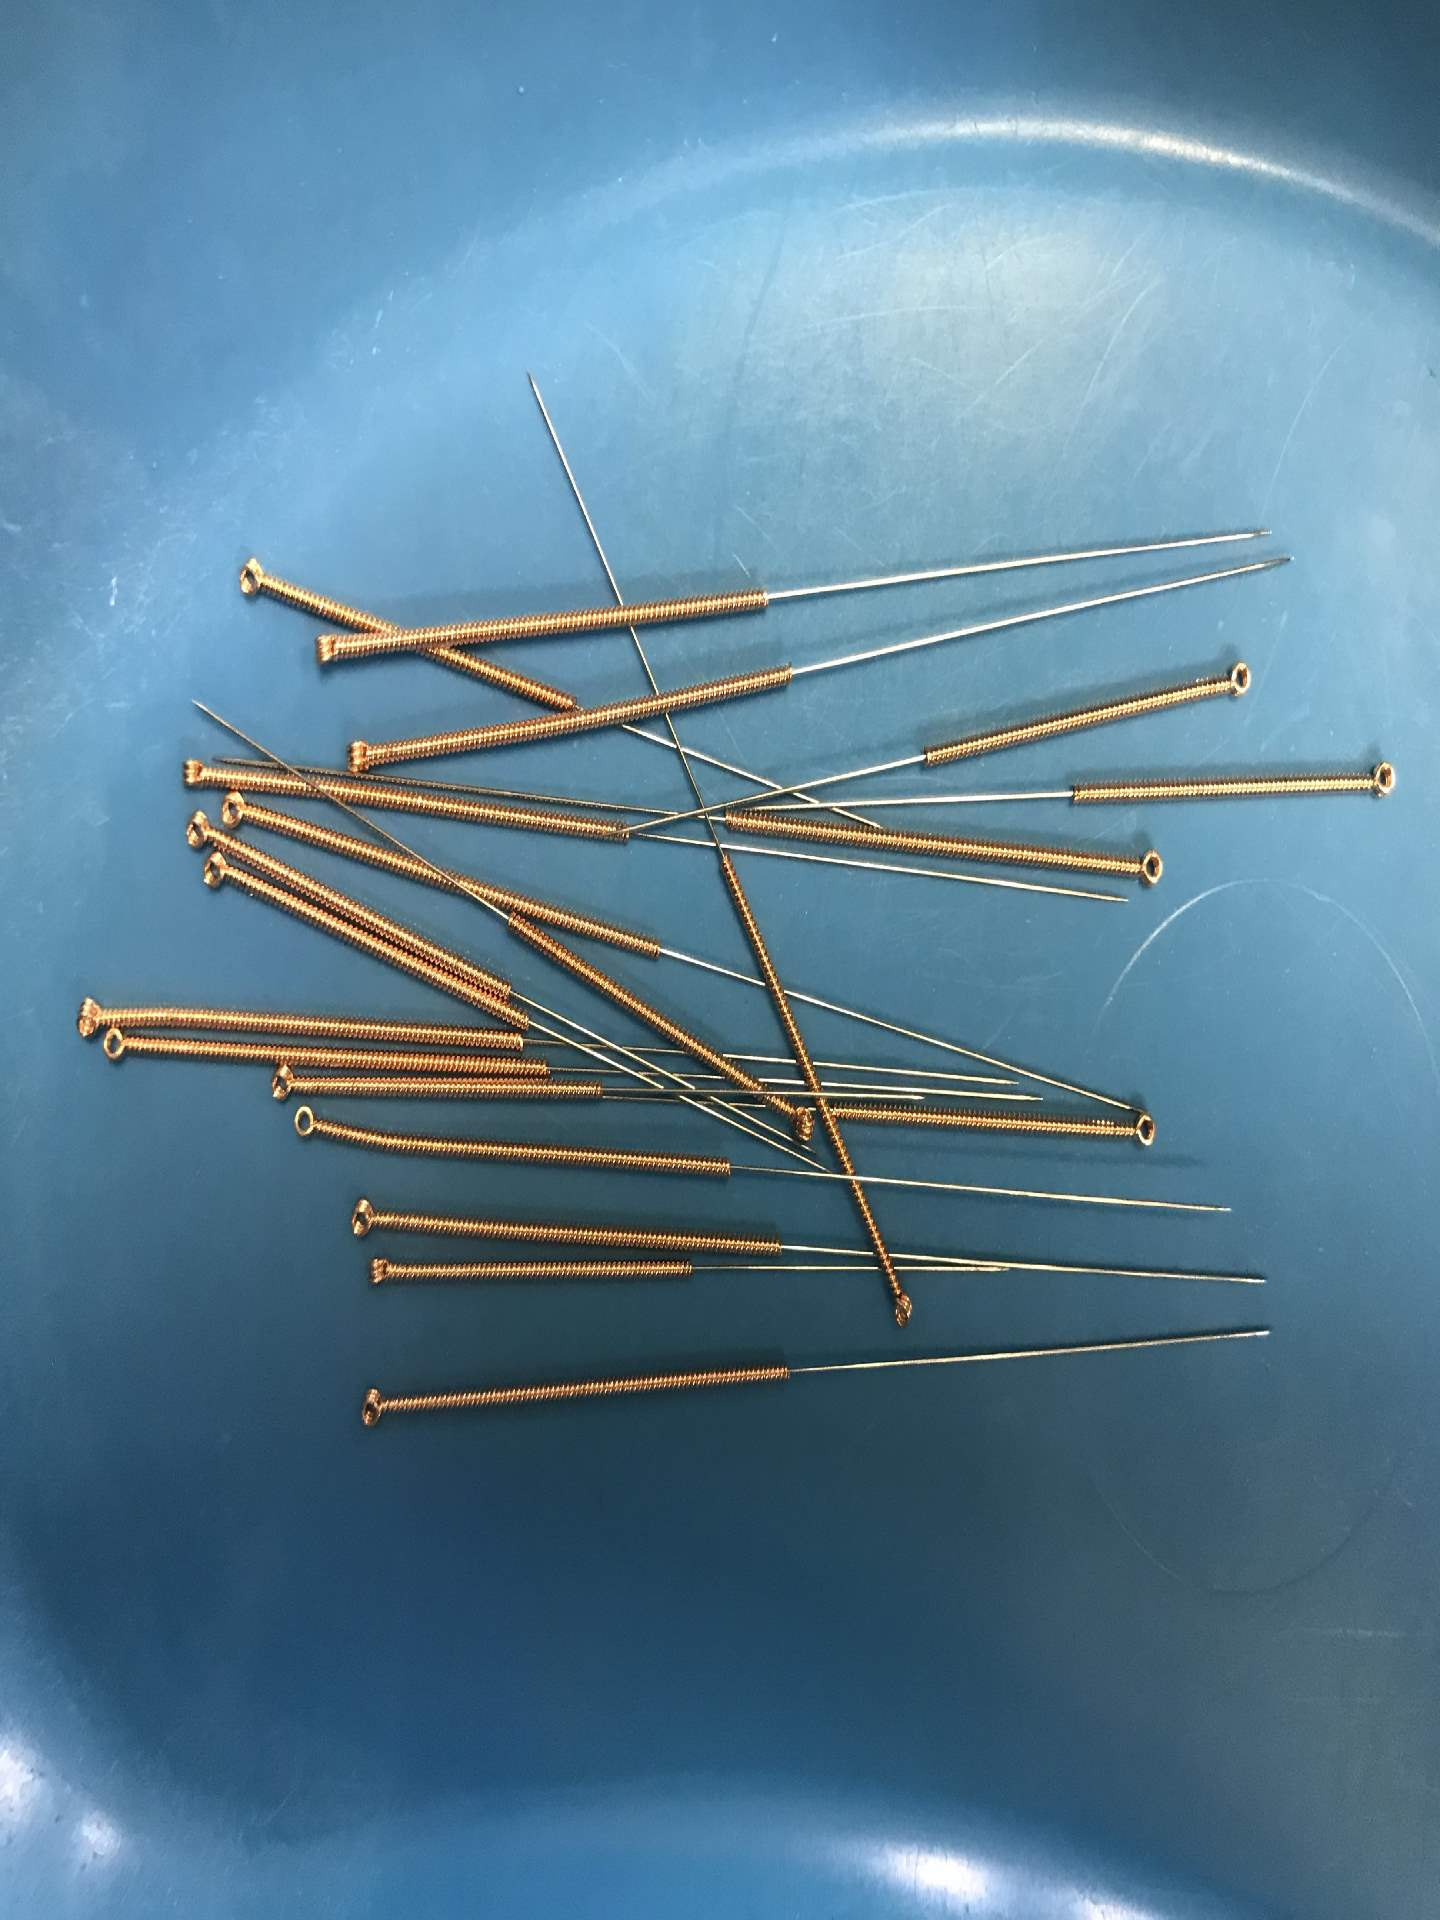needle: (222, 546, 278, 614), (334, 1191, 396, 1244), (346, 1377, 402, 1435), (1355, 751, 1408, 809), (337, 729, 393, 779), (1115, 1104, 1166, 1157), (303, 624, 355, 676), (354, 1249, 408, 1299), (880, 1277, 926, 1336), (212, 786, 262, 839), (1213, 655, 1263, 708), (95, 1023, 150, 1072), (1122, 839, 1171, 893), (260, 1058, 310, 1108), (171, 748, 222, 797), (281, 1101, 334, 1147), (172, 804, 219, 857), (64, 993, 113, 1042), (773, 1099, 821, 1147), (197, 847, 241, 898)
